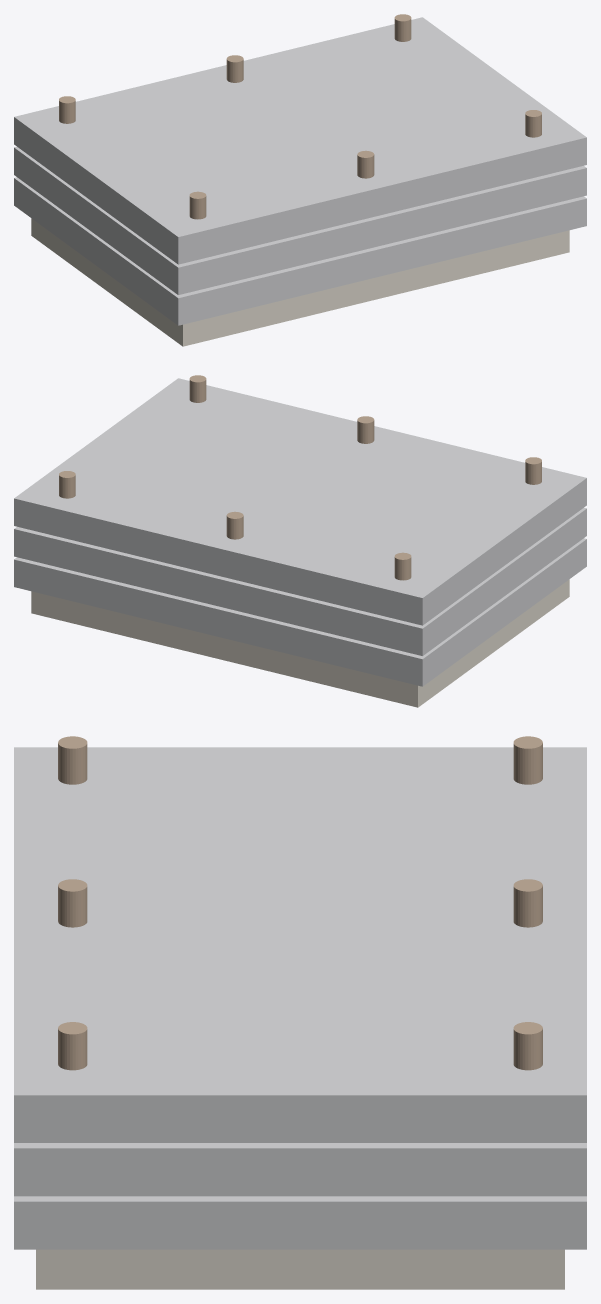
Rendered from MOD_FOUNDATION_RAISED_COASTAL_001_LOD_CLOSE.glb.
The picture shows the model from 3 angles, top to bottom: view 1: azimuth 30°, elevation 25°; view 2: azimuth 150°, elevation 25°; view 3: azimuth 270°, elevation 25°; orthographic projection. The views are drawn at different scales.
Visible parts, largest first — view 1: MOD_FOUNDATION_RAISED_COASTAL_001_COASTAL_STILT_FOUNDATION_C (×3), MOD_FOUNDATION_RAISED_COASTAL_001_LOW_RAISED_COASTAL_CLOSE_P, MOD_FOUNDATION_RAISED_COASTAL_001_MEDIUM_RAISED_COASTAL_CLOS, MOD_FOUNDATION_RAISED_COASTAL_001_LOW_RAISED_COASTAL_CLOSE_S, MOD_FOUNDATION_RAISED_COASTAL_001_COASTAL_STILT_FOUNDATION_. (×3), MOD_FOUNDATION_RAISED_COASTAL_001_COASTAL_STILT_FOUNDATION_; view 2: MOD_FOUNDATION_RAISED_COASTAL_001_COASTAL_STILT_FOUNDATION_C (×3), MOD_FOUNDATION_RAISED_COASTAL_001_LOW_RAISED_COASTAL_CLOSE_P, MOD_FOUNDATION_RAISED_COASTAL_001_MEDIUM_RAISED_COASTAL_CLOS, MOD_FOUNDATION_RAISED_COASTAL_001_LOW_RAISED_COASTAL_CLOSE_S, MOD_FOUNDATION_RAISED_COASTAL_001_COASTAL_STILT_FOUNDATION_. (×3), MOD_FOUNDATION_RAISED_COASTAL_001_COASTAL_STILT_FOUNDATION_; view 3: MOD_FOUNDATION_RAISED_COASTAL_001_COASTAL_STILT_FOUNDATION_C (×3), MOD_FOUNDATION_RAISED_COASTAL_001_LOW_RAISED_COASTAL_CLOSE_P, MOD_FOUNDATION_RAISED_COASTAL_001_MEDIUM_RAISED_COASTAL_CLOS, MOD_FOUNDATION_RAISED_COASTAL_001_LOW_RAISED_COASTAL_CLOSE_S, MOD_FOUNDATION_RAISED_COASTAL_001_COASTAL_STILT_FOUNDATION_. (×3), MOD_FOUNDATION_RAISED_COASTAL_001_COASTAL_STILT_FOUNDATION_.
Part boxes in pixels (box(x1,y1,x2,y2)): MOD_FOUNDATION_RAISED_COASTAL_001_COASTAL_STILT_FOUNDATION_C (×3): box(14, 17, 586, 264); MOD_FOUNDATION_RAISED_COASTAL_001_LOW_RAISED_COASTAL_CLOSE_P: box(14, 177, 586, 325); MOD_FOUNDATION_RAISED_COASTAL_001_MEDIUM_RAISED_COASTAL_CLOS: box(14, 147, 586, 294); MOD_FOUNDATION_RAISED_COASTAL_001_LOW_RAISED_COASTAL_CLOSE_S: box(31, 218, 569, 346); MOD_FOUNDATION_RAISED_COASTAL_001_COASTAL_STILT_FOUNDATION_. (×3): box(226, 14, 541, 137); MOD_FOUNDATION_RAISED_COASTAL_001_COASTAL_STILT_FOUNDATION_: box(357, 150, 374, 178); MOD_FOUNDATION_RAISED_COASTAL_001_COASTAL_STILT_FOUNDATION_C (×3): box(14, 378, 586, 625); MOD_FOUNDATION_RAISED_COASTAL_001_LOW_RAISED_COASTAL_CLOSE_P: box(14, 538, 586, 686); MOD_FOUNDATION_RAISED_COASTAL_001_MEDIUM_RAISED_COASTAL_CLOS: box(14, 508, 586, 655); MOD_FOUNDATION_RAISED_COASTAL_001_LOW_RAISED_COASTAL_CLOSE_S: box(31, 579, 569, 707); MOD_FOUNDATION_RAISED_COASTAL_001_COASTAL_STILT_FOUNDATION_. (×3): box(59, 375, 243, 539); MOD_FOUNDATION_RAISED_COASTAL_001_COASTAL_STILT_FOUNDATION_: box(357, 416, 374, 443); MOD_FOUNDATION_RAISED_COASTAL_001_COASTAL_STILT_FOUNDATION_C (×3): box(14, 736, 586, 1142); MOD_FOUNDATION_RAISED_COASTAL_001_LOW_RAISED_COASTAL_CLOSE_P: box(14, 1196, 586, 1249); MOD_FOUNDATION_RAISED_COASTAL_001_MEDIUM_RAISED_COASTAL_CLOS: box(14, 1143, 586, 1196); MOD_FOUNDATION_RAISED_COASTAL_001_LOW_RAISED_COASTAL_CLOSE_S: box(36, 1249, 564, 1289); MOD_FOUNDATION_RAISED_COASTAL_001_COASTAL_STILT_FOUNDATION_. (×3): box(58, 879, 542, 1070); MOD_FOUNDATION_RAISED_COASTAL_001_COASTAL_STILT_FOUNDATION_: box(58, 879, 87, 927).
Bounding box in the file's own units: 5.6 × 1.8 × 3.9.
